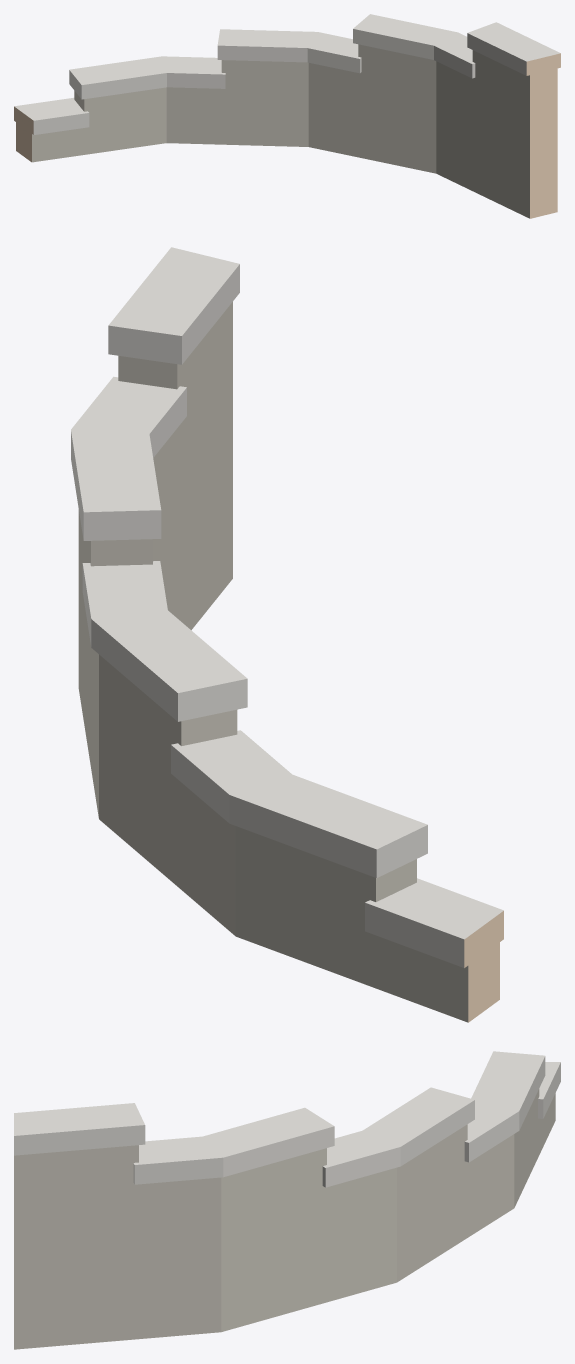
The model's file is Tiered_Retaining_Wall_Stepped_Curve_Short_3x3.glb.
The picture shows the model from 3 angles, top to bottom: view 1: azimuth 30°, elevation 25°; view 2: azimuth 150°, elevation 25°; view 3: azimuth 270°, elevation 25°; orthographic projection. The views are drawn at different scales.
Parts seen in each view (by area): view 1: Tiered_Retaining_Wall_Stepped_Curve_Short_3x3; view 2: Tiered_Retaining_Wall_Stepped_Curve_Short_3x3; view 3: Tiered_Retaining_Wall_Stepped_Curve_Short_3x3.
Part boxes in pixels (x1=…): Tiered_Retaining_Wall_Stepped_Curve_Short_3x3: x1=14, y1=14, x2=560, y2=218; Tiered_Retaining_Wall_Stepped_Curve_Short_3x3: x1=71, y1=247, x2=503, y2=1022; Tiered_Retaining_Wall_Stepped_Curve_Short_3x3: x1=14, y1=1051, x2=560, y2=1349.
Size of the model in its own units: 316 by 138 by 316.
